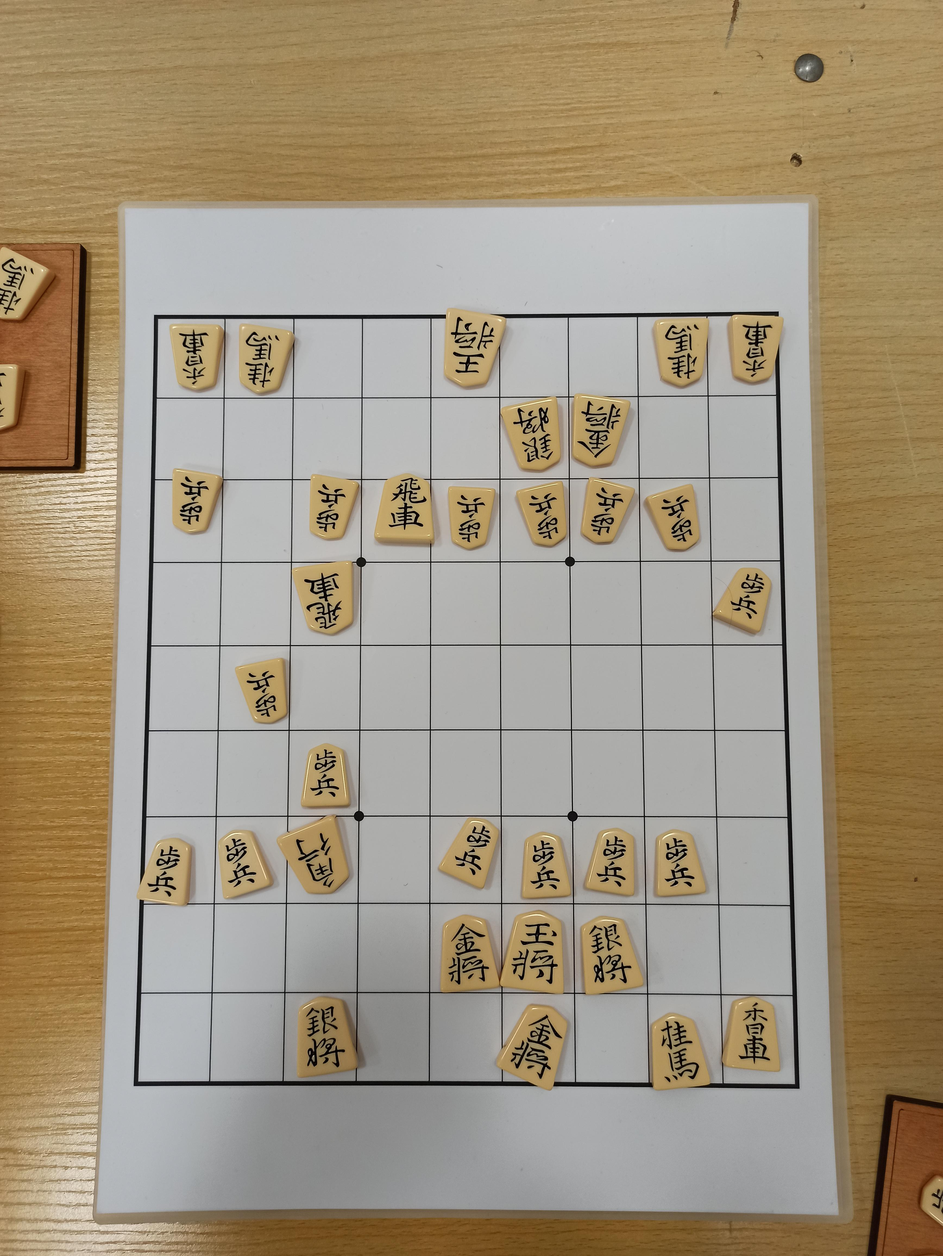board: (137, 312, 799, 1086)
